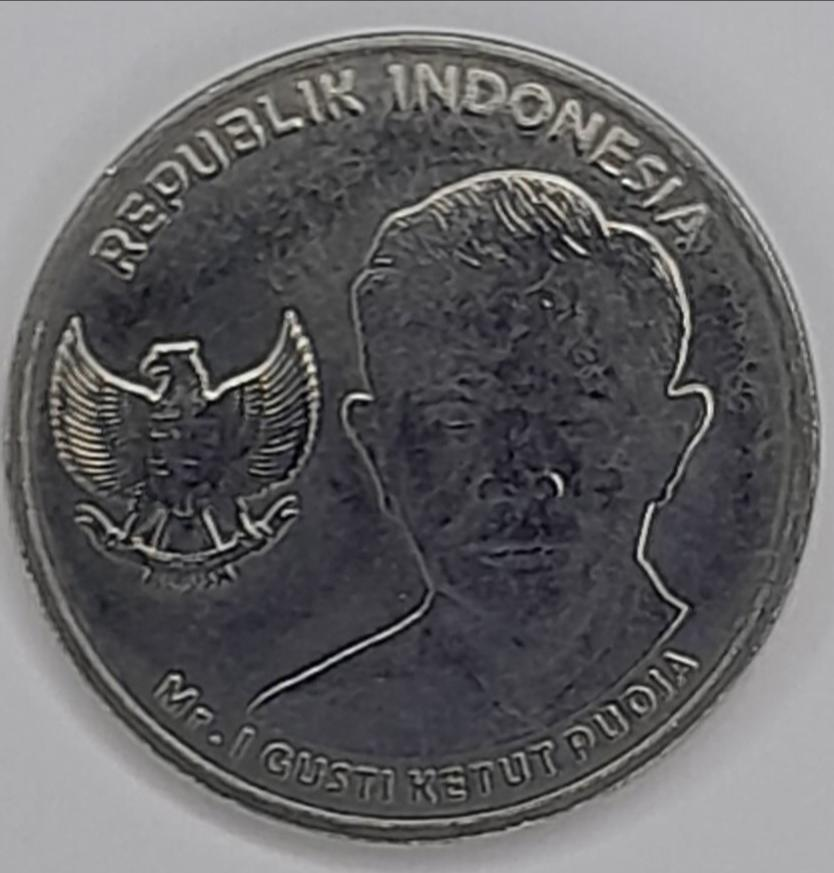coin_1000_e2016: (14, 17, 823, 873)
